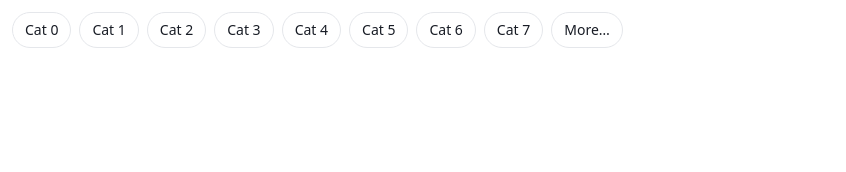
Test: CategoryChips › shows the first 8 and reveals the rest with More
Step 1. Click the button "More…" → (587, 30), box left=551, top=12, right=623, bottom=48
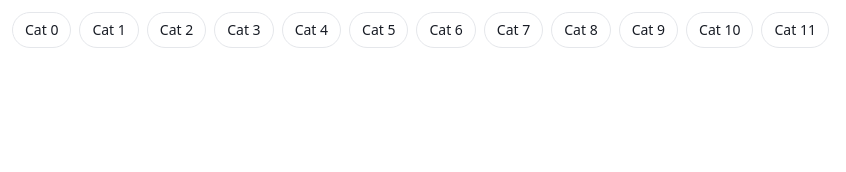
Check: the button "More…" is gone
